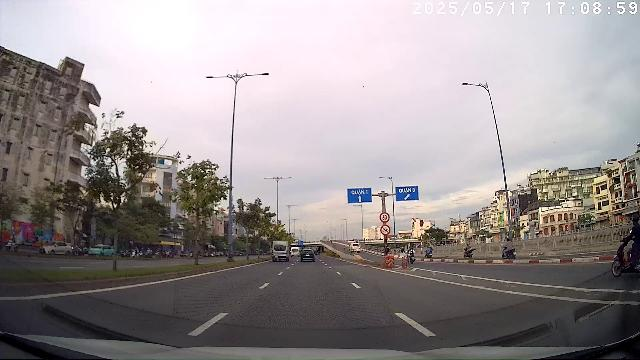127-toc-do-toi-da-60: (380, 212, 390, 222)
